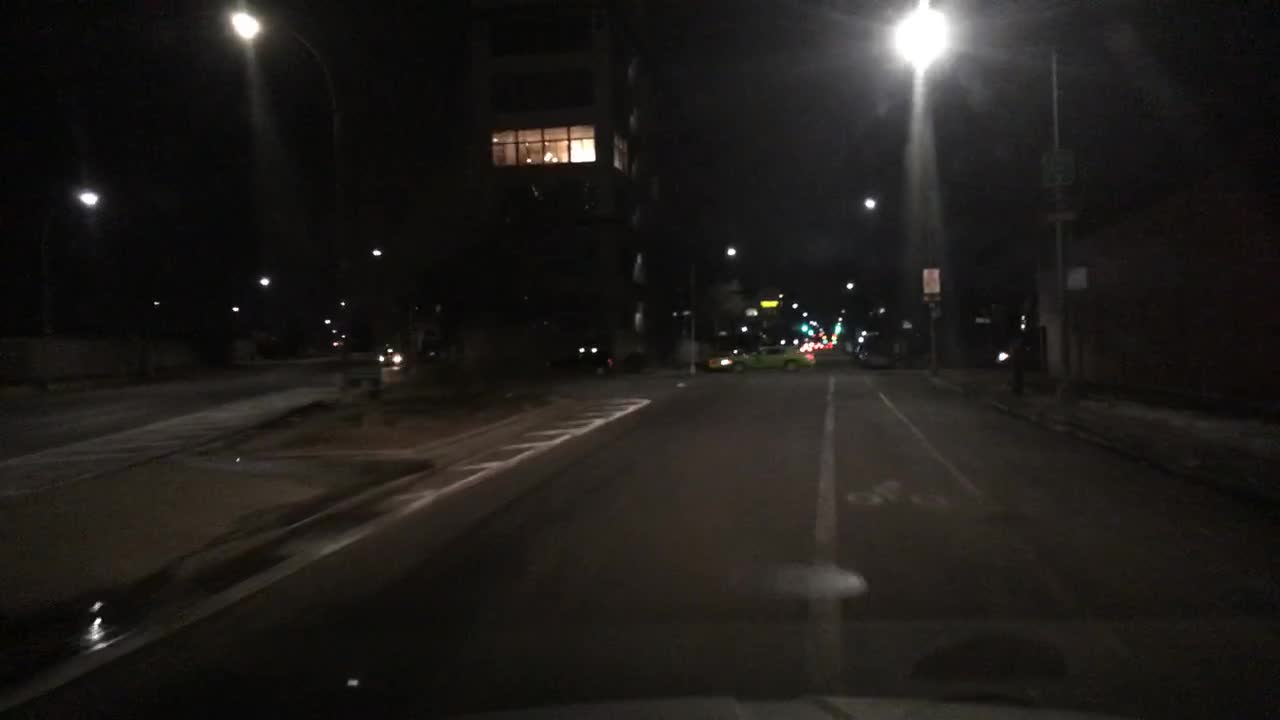car: (709, 344, 814, 373), (552, 340, 612, 377), (853, 339, 895, 368), (377, 343, 403, 366), (331, 337, 346, 348), (800, 341, 813, 352), (825, 341, 836, 349), (813, 342, 823, 349)
traffic sign: (1042, 148, 1075, 186), (1066, 264, 1084, 290), (923, 267, 939, 292), (1048, 211, 1075, 222), (929, 301, 944, 317), (975, 314, 990, 324), (923, 293, 941, 301), (901, 319, 911, 328)
